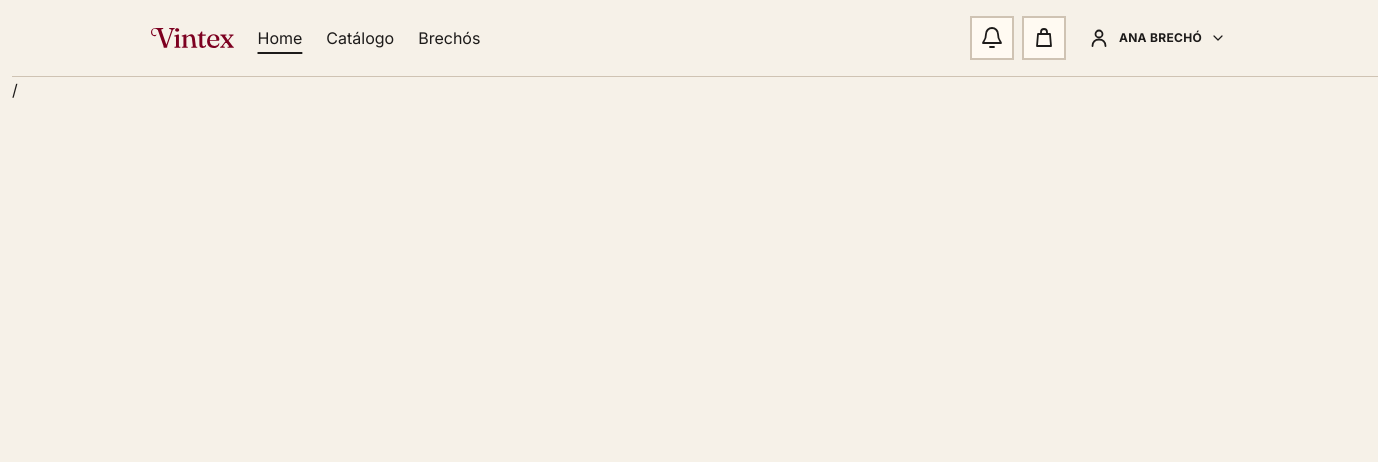
Scenario: <Header /> › FE-FND-6: navegação da Sprint 3 › logado: Meus pedidos navega para sua rota e fecha o menu
Step 1. Click the button "Ana Brechó" → (1156, 38), box [1074,16,1239,60]
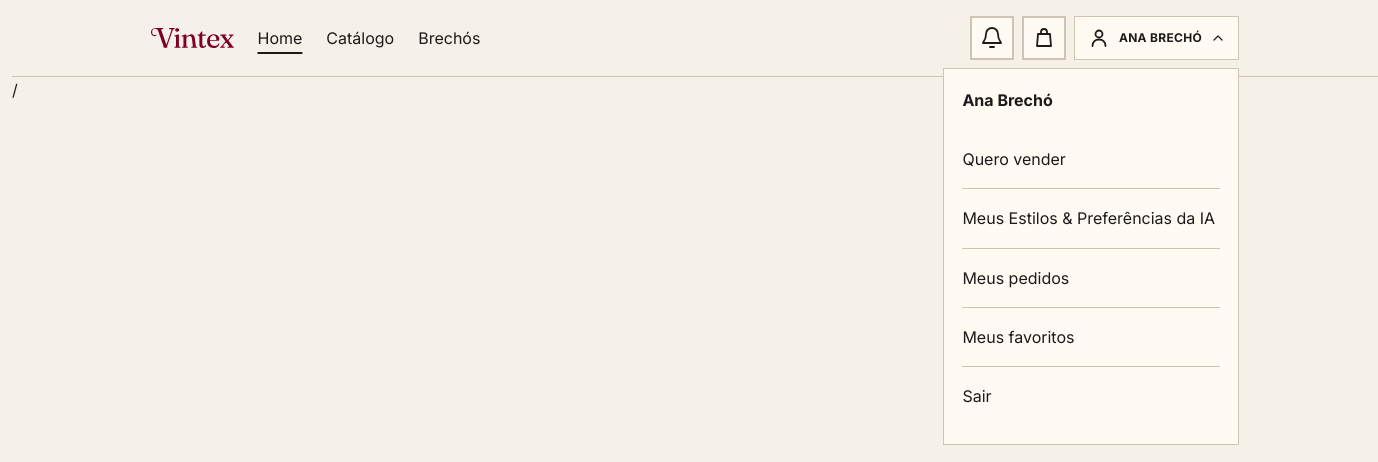
Step 2. Click the button "Meus pedidos" → (1091, 278), box [962,249,1220,307]
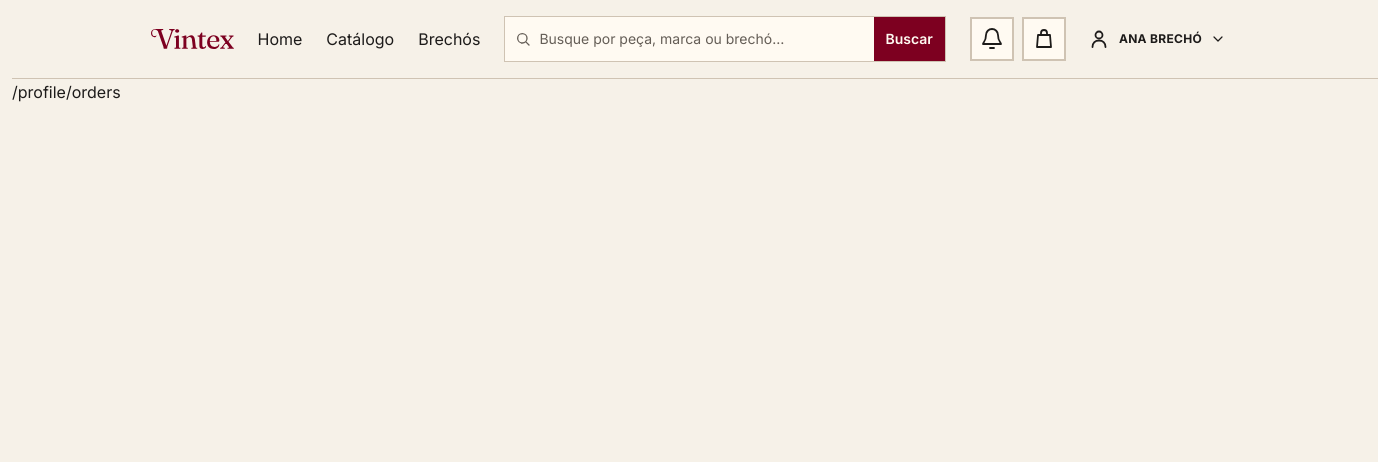
Expected: the text with test id "path" reads "/profile/orders", [12,82,121,102]
Expected: the button "Sair" is gone
